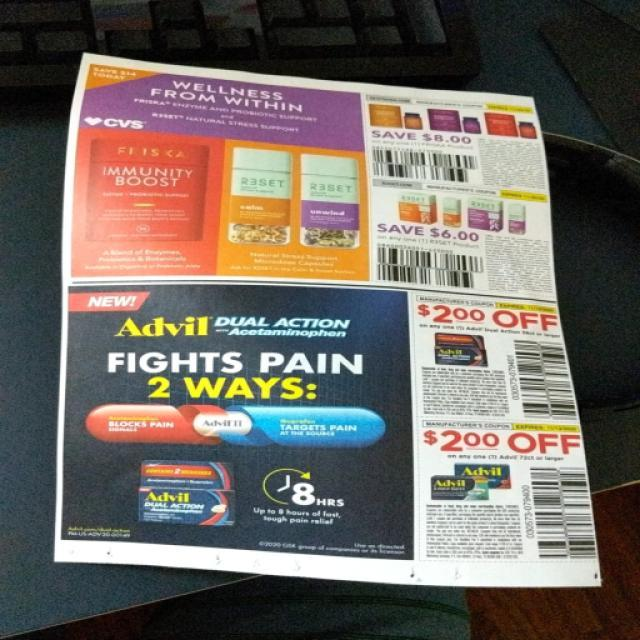document: (56, 54, 599, 585)
